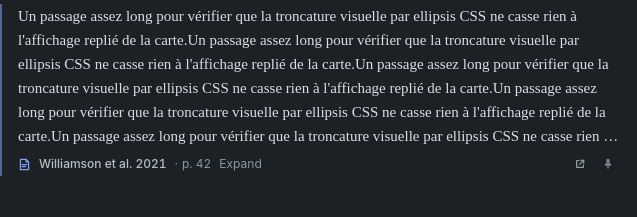
PassageCard › un extrait long se déplie sans ouvrir sa source
The width and height of the screenshot is (637, 217).
Click the button "Expand": click(240, 164) 219,156 -> 262,172
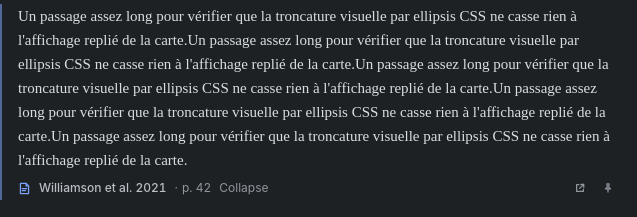
Check: the element with class "open" is shown
